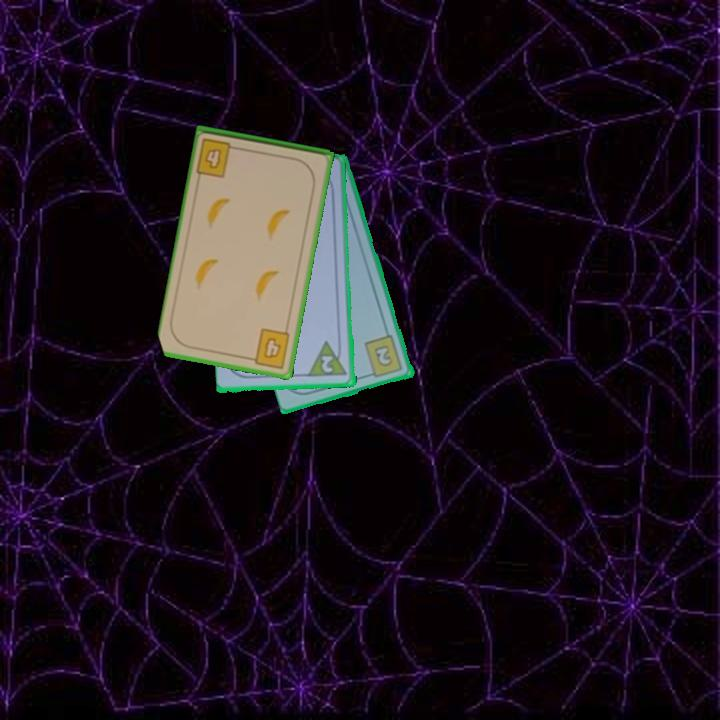2b: (361, 332, 406, 381)
2p: (318, 352, 336, 376)
4b: (193, 134, 243, 180), (245, 325, 293, 371)
